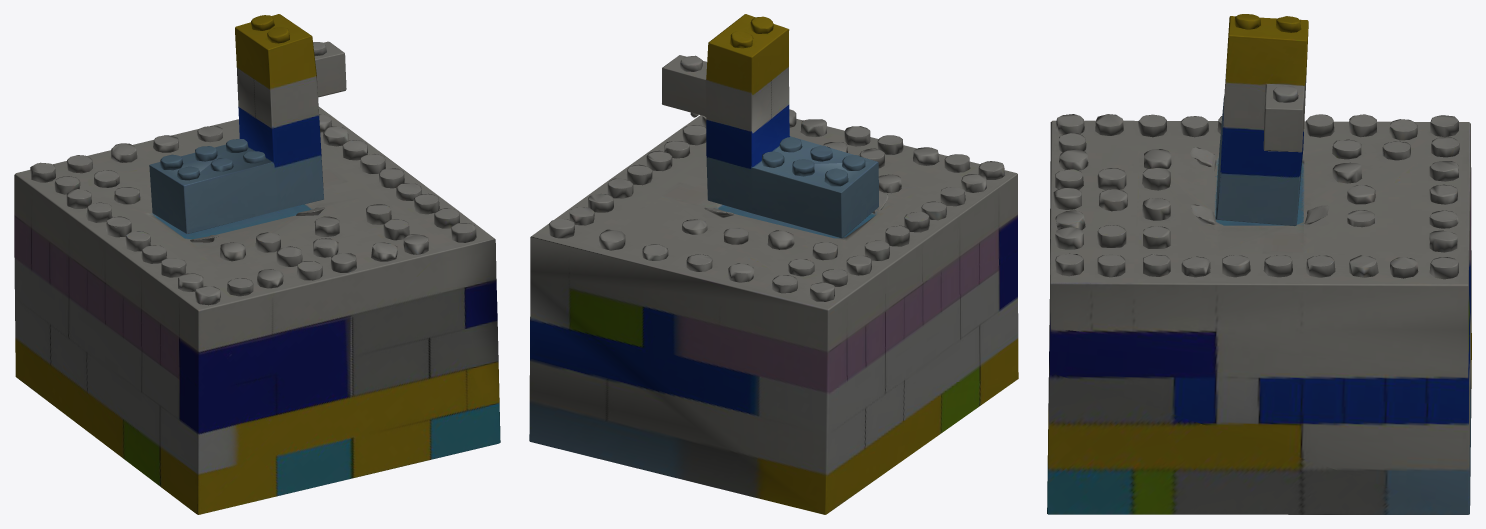
File: object_56_asset_766a404a.glb
The picture shows the model from 3 angles, left to right: view 1: azimuth 30°, elevation 25°; view 2: azimuth 150°, elevation 25°; view 3: azimuth 270°, elevation 25°; orthographic projection. The views are drawn at different scales.
Visible parts, largest first — view 1: tripo_node_4bac5e26-b065-44dd-8783-c244e55e3be5; view 2: tripo_node_4bac5e26-b065-44dd-8783-c244e55e3be5; view 3: tripo_node_4bac5e26-b065-44dd-8783-c244e55e3be5.
Boxes of the visible parts, <box> form: tripo_node_4bac5e26-b065-44dd-8783-c244e55e3be5: <box>14,14,500,514</box>; tripo_node_4bac5e26-b065-44dd-8783-c244e55e3be5: <box>529,14,1018,514</box>; tripo_node_4bac5e26-b065-44dd-8783-c244e55e3be5: <box>1047,14,1471,514</box>.
Bounding box in the file's own units: 0.8301 × 0.998 × 0.9004.
Materials: 1 (1 with a texture image).
